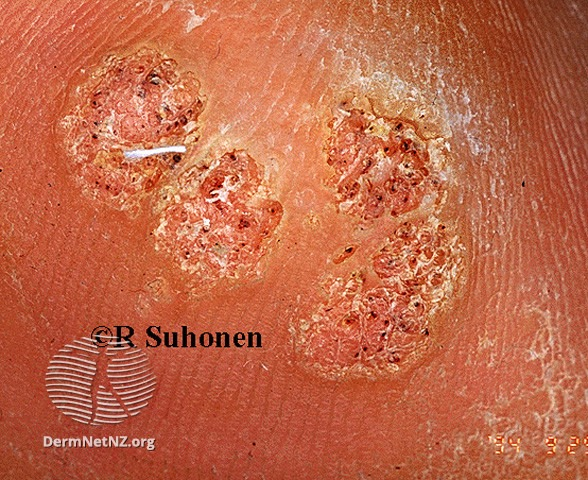Warts: (54, 32, 306, 300), (296, 50, 486, 395)
